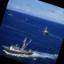fishing boat: (0, 38, 34, 59), (43, 28, 50, 34), (23, 16, 30, 22), (8, 12, 14, 16)
